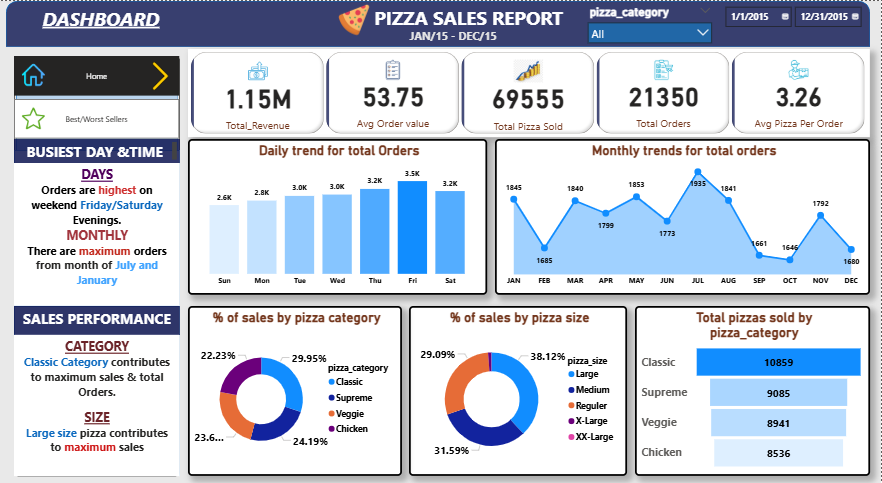

The page's visual inventory and layout, read from the dashboard file:
{"tool":"powerbi","page":{"name":"Home","canvas":[1500,820],"ordinal":0},"visuals":[{"type":"cardVisual","fields":{"Data":["pizzadb pizza_sales.Total Revenue","pizzadb pizza_sales.Avg_Order_value","pizzadb pizza_sales.Total_pizza_sold","pizzadb pizza_sales.Total_orders","pizzadb pizza_sales.Avg_pizza_sold_per_order"]},"box":[321.5,81.7,1160.2,149.7],"z":0},{"type":"shape","box":[11.9,0,1469.9,78.3],"z":1000},{"type":"textbox","box":[490,0,618,74],"z":2000},{"type":"image","box":[564,0,78,64],"z":3000},{"type":"textbox","box":[526,40,494,52],"z":4000},{"type":"donutChart","title":"% of sales by pizza size","fields":{"Y":["CountNonNull(pizzadb pizza_sales.pizza_size)"],"Category":["pizzadb pizza_sales.pizza_size"]},"box":[697.5,518.9,370.9,289.2],"z":5000},{"type":"donutChart","title":"% of sales by pizza category","fields":{"Y":["CountNonNull(pizzadb pizza_sales.pizza_category)"],"Category":["pizzadb pizza_sales.pizza_category"]},"box":[321.5,518.9,364.1,289.2],"z":6000},{"type":"funnel","title":"Total pizzas sold by pizza_category","fields":{"Category":["pizzadb pizza_sales.pizza_category"],"Y":["Count(pizzadb pizza_sales.order_id)"]},"box":[1082,518.9,399.8,289.2],"z":7000},{"type":"lineChart","title":"Monthly trends for total orders","fields":{"Y":["pizzadb pizza_sales.Total Orders"],"Category":["pizzadb pizza_sales.mont"]},"box":[843.8,234.8,638,265.4],"z":8000},{"type":"columnChart","title":"Daily trend for total Orders","fields":{"Y":["Count(pizzadb pizza_sales.order_id)"],"Category":["pizzadb pizza_sales.Custom"]},"box":[321.5,234.8,508.7,265.4],"z":9000},{"type":"shape","box":[25.5,93.6,282.4,714.5],"z":10000},{"type":"shape","box":[25.5,253.5,282.4,265.4],"z":11000},{"type":"shape","box":[25.5,518.9,282.4,289.2],"z":12000},{"type":"textbox","box":[25.5,234.8,282.4,40.8],"z":13000},{"type":"textbox","box":[25.5,518.9,282.4,49.3],"z":14000},{"type":"textbox","box":[25.5,275.6,282.4,243.3],"z":15000},{"type":"textbox","box":[25.5,568.2,282.4,239.9],"z":16000},{"type":"slicer","fields":{"Values":["pizzadb pizza_sales.pizza_category"]},"box":[991.8,1.7,231.4,73.2],"z":17000},{"type":"slicer","fields":{"Values":["pizzadb pizza_sales.order_date"]},"box":[1223.2,0,258.6,73.2],"z":18000},{"type":"pageNavigator","box":[25.8,93.3,281.7,67.5],"z":19000},{"type":"pageNavigator","box":[25.8,166.7,281.7,67.5],"z":20000},{"type":"image","box":[241.6,98.7,66.3,57.8],"z":21000},{"type":"image","box":[34,95.3,49.3,61.2],"z":22000},{"type":"image","box":[34,175.2,49.3,49.3],"z":23000},{"type":"textbox","box":[0,1.7,347.1,73.2],"z":24000}]}

Visuals, with their boxes in screenshot pixels (x1, y1, x2, y2), scaled from the page's 1500x820 canvas onto the 882x483 screenshot:
cardVisual - pizzadb pizza_sales.Total Revenue x pizzadb pizza_sales.Avg_Order_value: [left=189, top=48, right=871, bottom=136]
shape: [left=7, top=0, right=871, bottom=46]
textbox: [left=288, top=0, right=652, bottom=44]
image: [left=332, top=0, right=377, bottom=38]
textbox: [left=309, top=24, right=600, bottom=54]
"% of sales by pizza size" donutChart: [left=410, top=306, right=628, bottom=476]
"% of sales by pizza category" donutChart: [left=189, top=306, right=403, bottom=476]
"Total pizzas sold by pizza_category" funnel: [left=636, top=306, right=871, bottom=476]
"Monthly trends for total orders" lineChart: [left=496, top=138, right=871, bottom=295]
"Daily trend for total Orders" columnChart: [left=189, top=138, right=488, bottom=295]
shape: [left=15, top=55, right=181, bottom=476]
shape: [left=15, top=149, right=181, bottom=306]
shape: [left=15, top=306, right=181, bottom=476]
textbox: [left=15, top=138, right=181, bottom=162]
textbox: [left=15, top=306, right=181, bottom=335]
textbox: [left=15, top=162, right=181, bottom=306]
textbox: [left=15, top=335, right=181, bottom=476]
slicer - pizzadb pizza_sales.pizza_category: [left=583, top=1, right=719, bottom=44]
slicer - pizzadb pizza_sales.order_date: [left=719, top=0, right=871, bottom=43]
pageNavigator: [left=15, top=55, right=181, bottom=95]
pageNavigator: [left=15, top=98, right=181, bottom=138]
image: [left=142, top=58, right=181, bottom=92]
image: [left=20, top=56, right=49, bottom=92]
image: [left=20, top=103, right=49, bottom=132]
textbox: [left=0, top=1, right=204, bottom=44]
